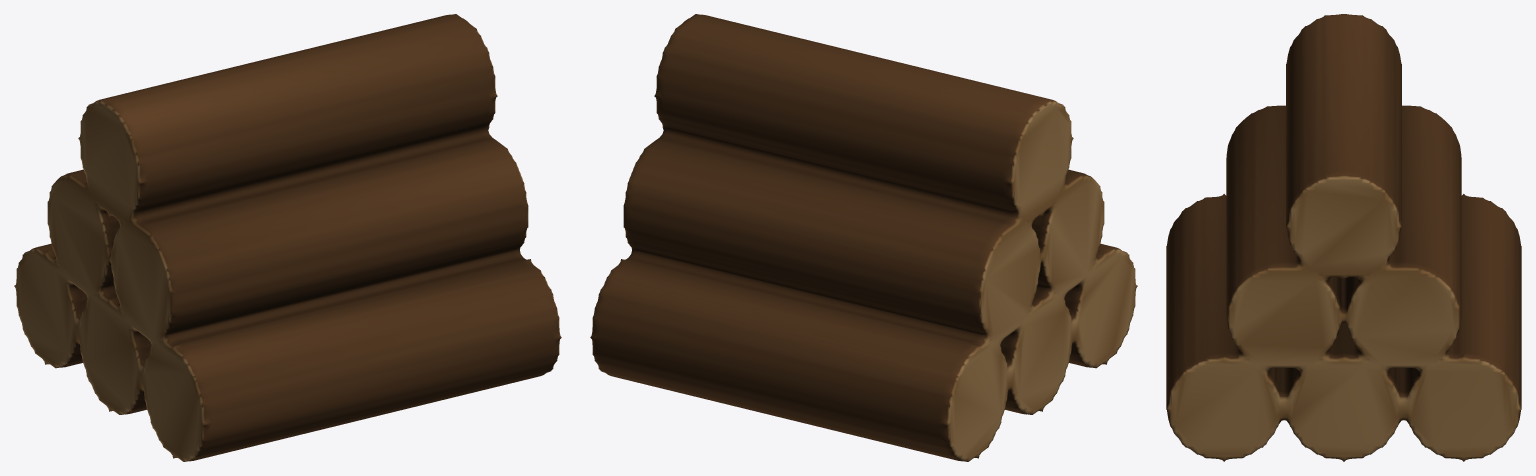
The model's file is log_pile.glb.
3 views of the same model, side by side, from view 1: azimuth 30°, elevation 25°; view 2: azimuth 150°, elevation 25°; view 3: azimuth 270°, elevation 25° (orthographic). The views are drawn at different scales.
Visible parts, largest first — view 1: log_pile; view 2: log_pile; view 3: log_pile.
Part boxes in pixels (bbox=[...]): log_pile: bbox=[14, 14, 561, 461]; log_pile: bbox=[590, 14, 1137, 461]; log_pile: bbox=[1166, 14, 1521, 461].
Size of the model in its own units: 2 by 1.64 by 1.84.
